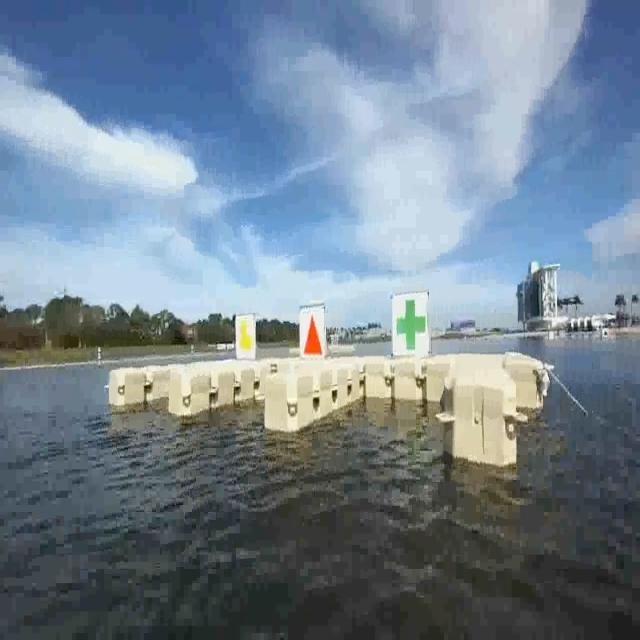blue-cross: (391, 293, 431, 359)
yellow-duck: (234, 313, 257, 364)
